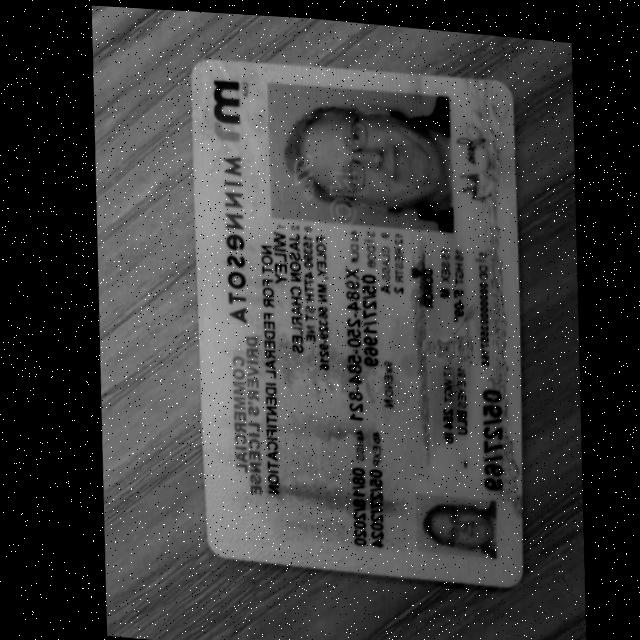card: (191, 59, 522, 586)
